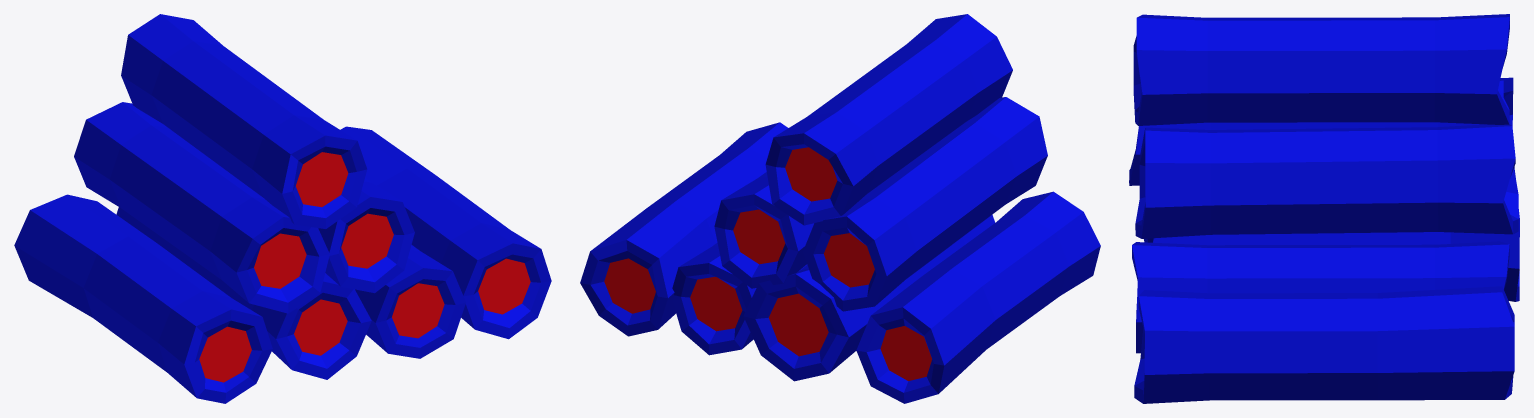
The model's file is SM_Short_LogStack6.fbx.
3 renders of one model, left to right at view 1: azimuth 30°, elevation 25°; view 2: azimuth 150°, elevation 25°; view 3: azimuth 270°, elevation 25°, orthographic. The views are drawn at different scales.
Parts seen in each view (by area): view 1: SM_Short_LogStack6; view 2: SM_Short_LogStack6; view 3: SM_Short_LogStack6.
Part boxes in pixels (<box>): SM_Short_LogStack6: <box>14,14,551,403</box>; SM_Short_LogStack6: <box>580,14,1100,403</box>; SM_Short_LogStack6: <box>1129,14,1519,403</box>.
Bounding box in the file's own units: 84.73 × 53.99 × 67.93.
